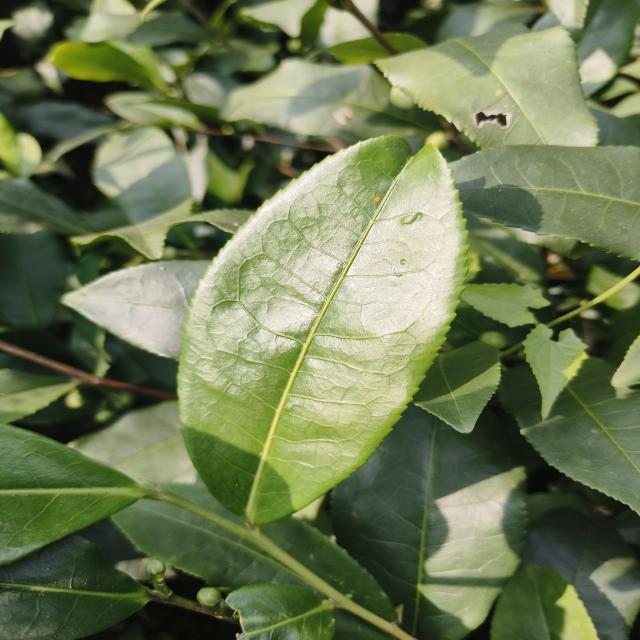Leaf: (178, 136, 466, 524), (332, 405, 526, 640), (376, 25, 598, 149), (499, 358, 640, 513), (450, 146, 640, 260), (112, 484, 309, 591), (222, 58, 439, 152), (0, 424, 145, 564), (0, 535, 150, 640), (524, 507, 640, 640), (61, 261, 209, 360), (264, 516, 394, 617), (535, 0, 640, 97), (92, 127, 191, 222), (491, 563, 598, 640), (413, 341, 500, 433), (65, 0, 206, 46), (0, 231, 66, 328), (227, 584, 335, 640), (0, 179, 91, 235), (50, 41, 151, 84), (0, 369, 79, 422), (22, 100, 115, 140)
